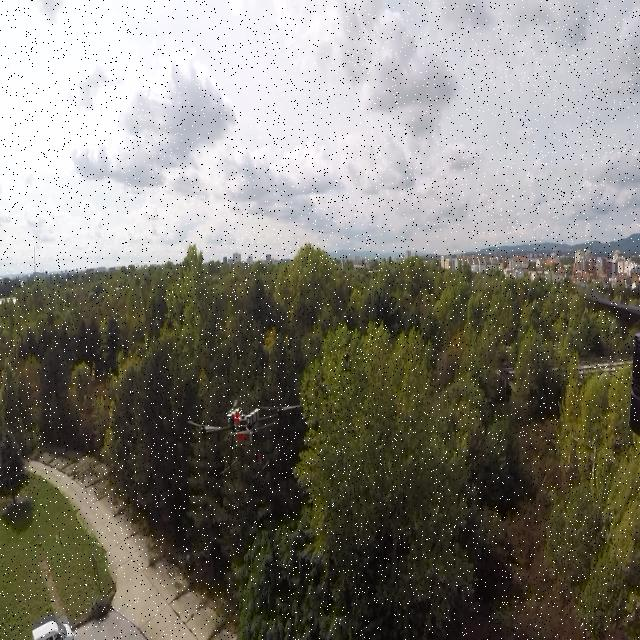UAV: (187, 395, 302, 481)
